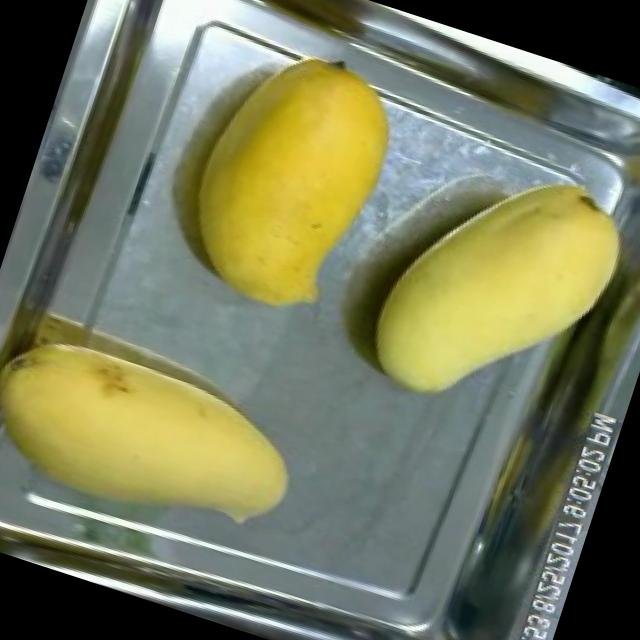fruit: (343, 112, 640, 461), (0, 287, 331, 571), (153, 18, 424, 343)
